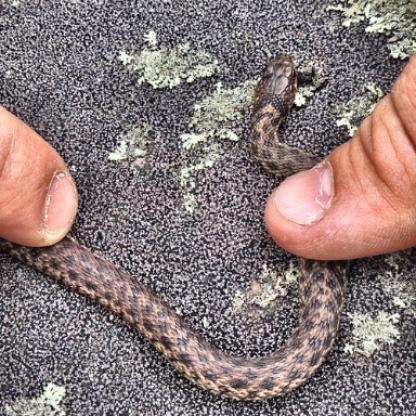Snake: (0, 54, 346, 403)
